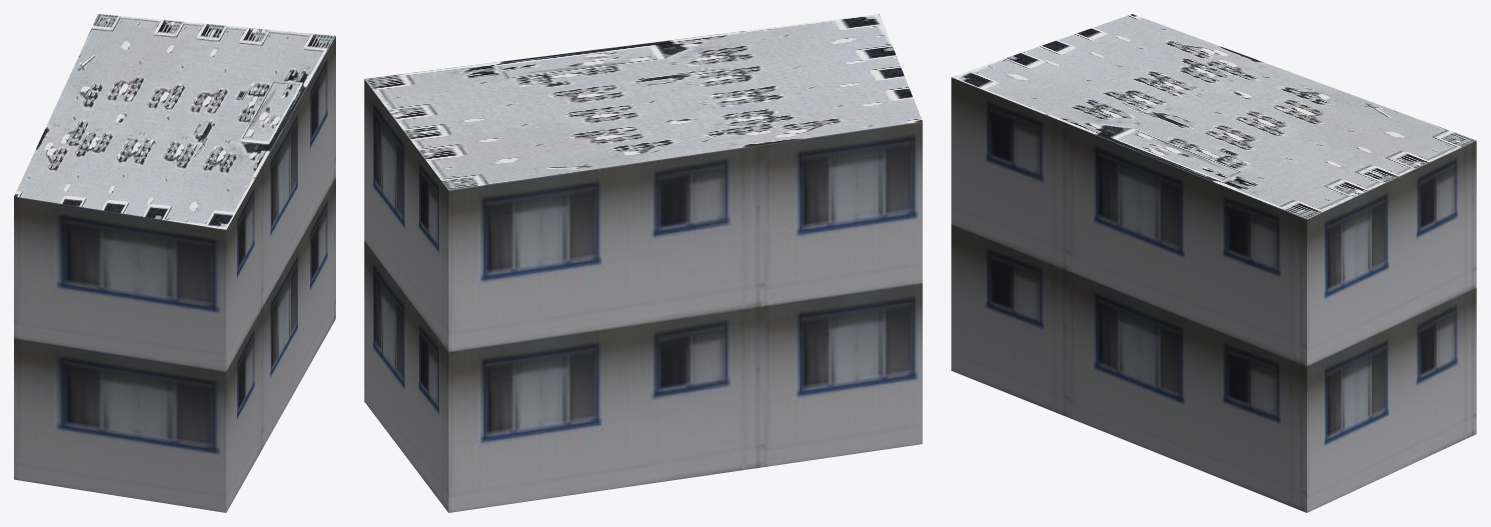
Rendered from ResTex__2159.fbx.
The picture shows the model from 3 angles, left to right: view 1: azimuth 30°, elevation 25°; view 2: azimuth 150°, elevation 25°; view 3: azimuth 270°, elevation 25°; orthographic projection. The views are drawn at different scales.
Visible parts, largest first — view 1: CityEngineMaterial_9_m, CityEngineMaterial_m; view 2: CityEngineMaterial_9_m, CityEngineMaterial_m; view 3: CityEngineMaterial_9_m, CityEngineMaterial_m.
Boxes of the visible parts, x1,y1,x2,y2 form: CityEngineMaterial_9_m: (14,36,335,512); CityEngineMaterial_m: (14,14,335,229); CityEngineMaterial_9_m: (364,79,922,512); CityEngineMaterial_m: (364,14,922,190); CityEngineMaterial_9_m: (951,77,1476,512); CityEngineMaterial_m: (952,14,1475,219).
Size of the model in its own units: 9 by 6 by 9.73.
Materials: 2 (2 with a texture image).
